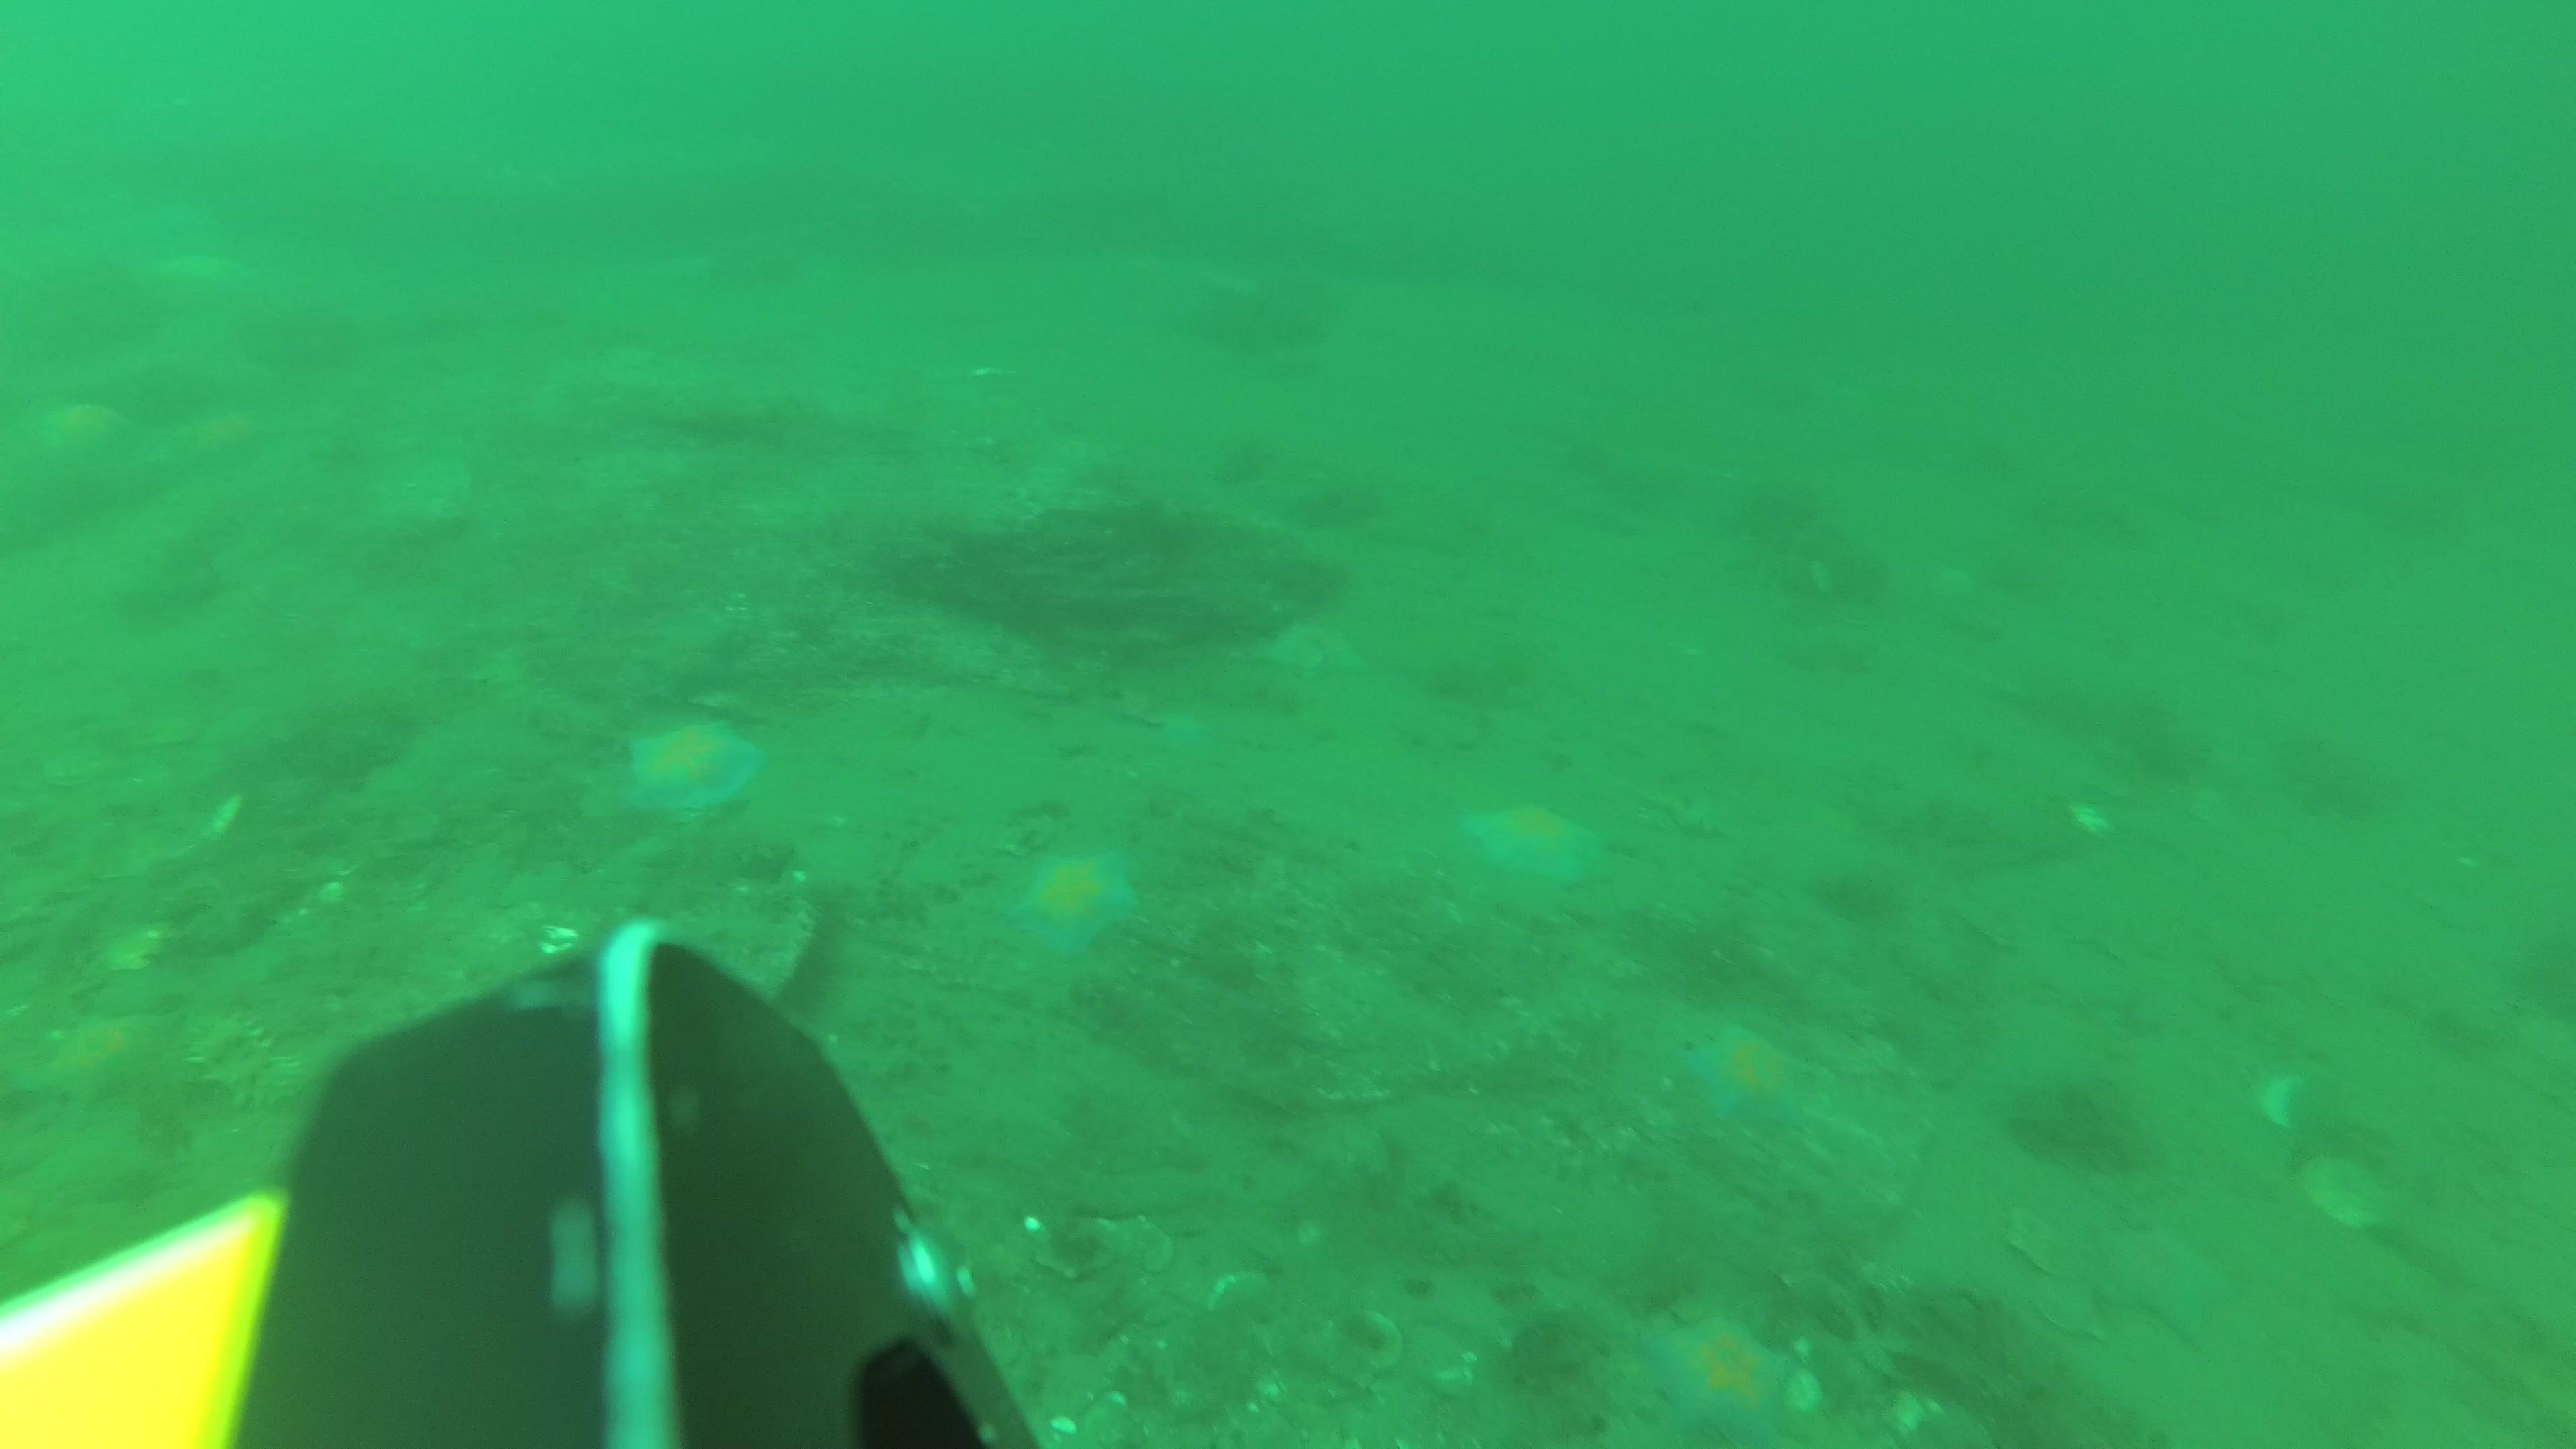holothurian: (196, 1016, 304, 1106)
scallop: (2302, 1148, 2396, 1237)
starfish: (1645, 1318, 1794, 1444), (2089, 1221, 2235, 1346), (623, 722, 768, 826), (30, 1005, 177, 1108), (1016, 846, 1141, 962), (1688, 1021, 1813, 1127), (1474, 800, 1599, 888), (42, 400, 129, 478), (180, 405, 265, 474)
